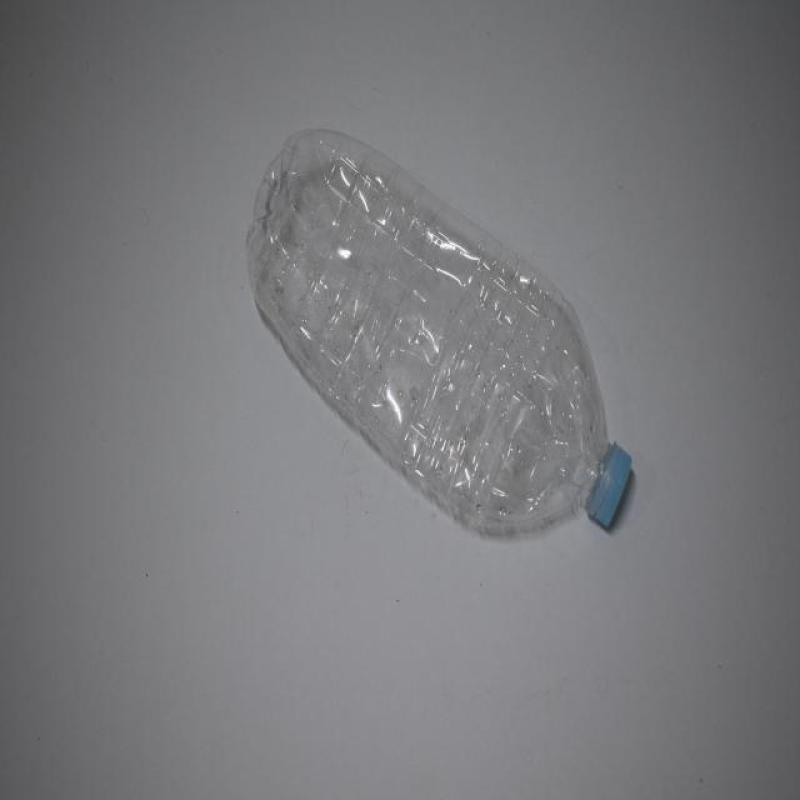botella: (245, 128, 631, 540)
